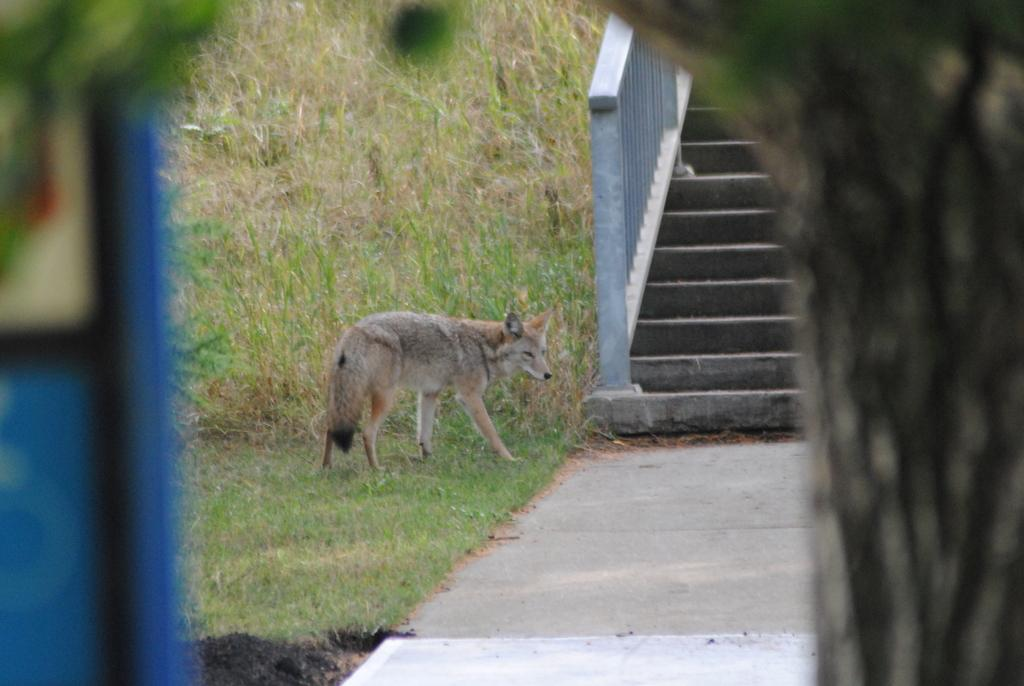Coyote: (316, 308, 562, 473)
